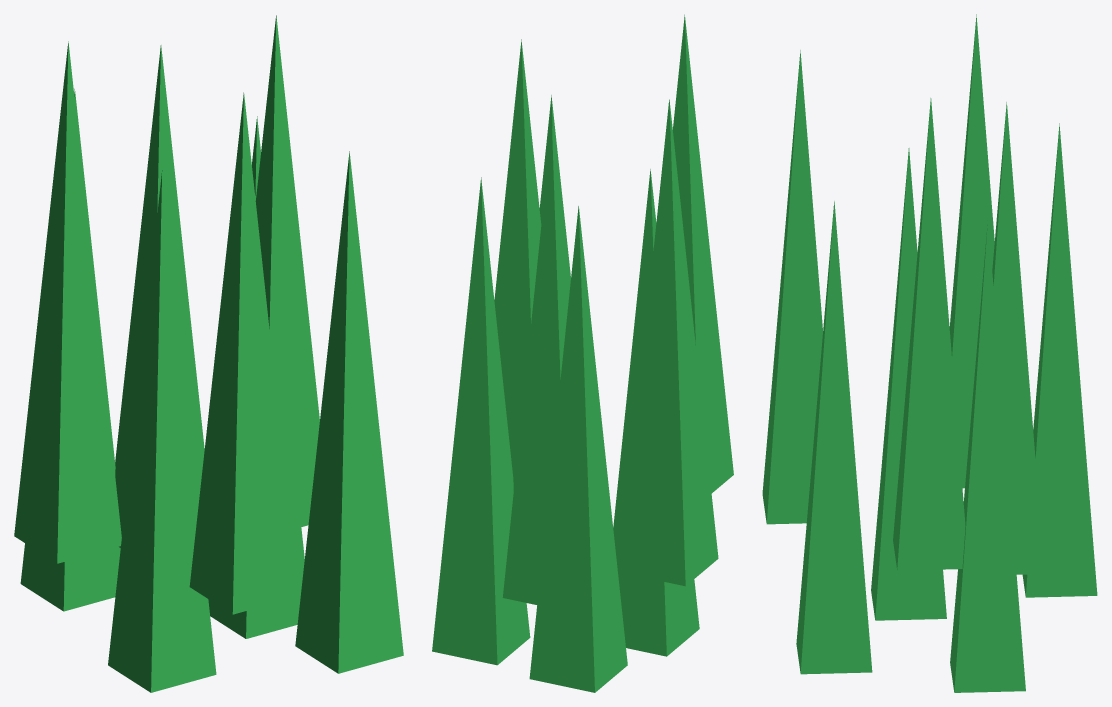
The model's file is Single Grass Patch.fbx.
3 renders of one model, left to right at view 1: azimuth 30°, elevation 25°; view 2: azimuth 150°, elevation 25°; view 3: azimuth 270°, elevation 25°, orthographic. The views are drawn at different scales.
Visible parts, largest first — view 1: small grass patches.009; view 2: small grass patches.009; view 3: small grass patches.009.
Part boxes in pixels (left/top/right/bottom): small grass patches.009: left=14, top=15, right=403, bottom=692; small grass patches.009: left=432, top=14, right=733, bottom=692; small grass patches.009: left=762, top=14, right=1097, bottom=692.
Bounding box in the file's own units: 28.45 × 61.98 × 32.69.
